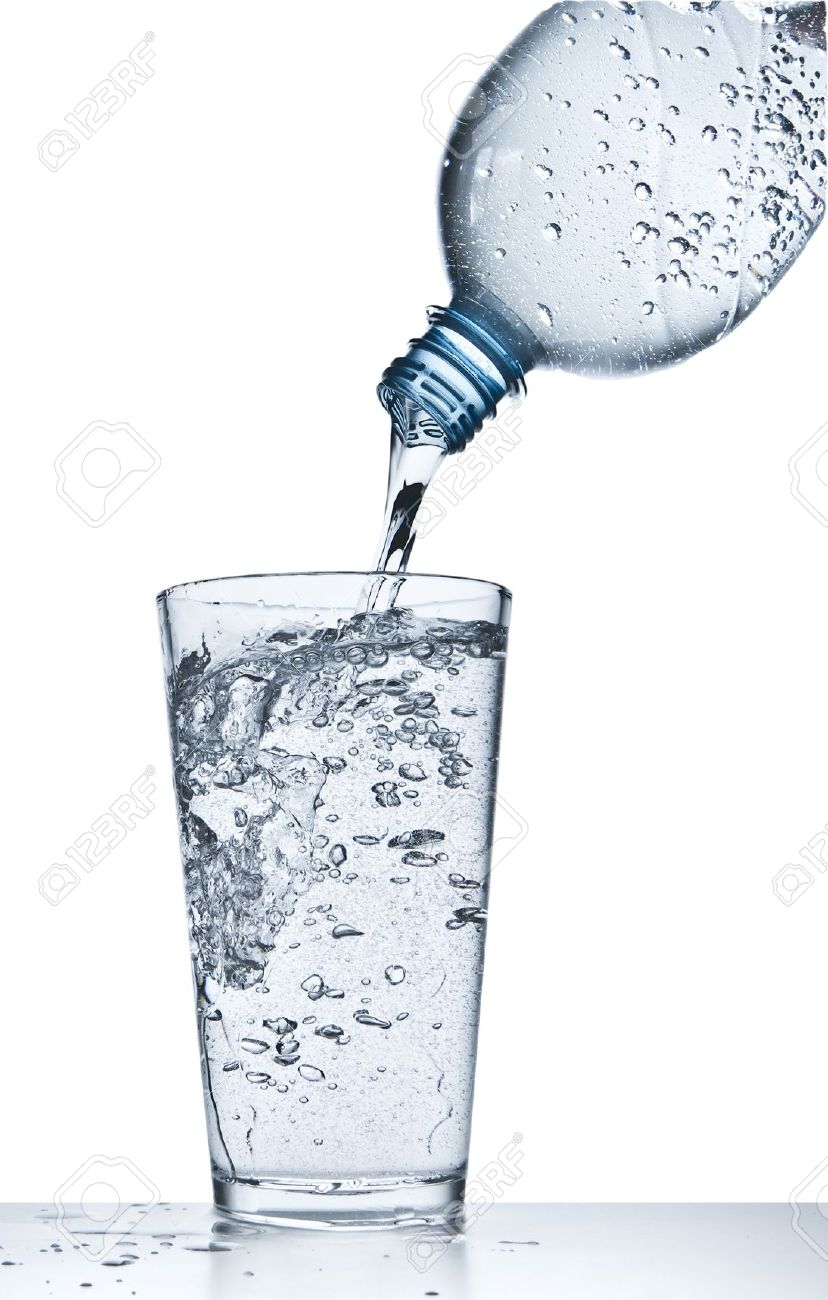glass of water: (135, 560, 535, 1282), (323, 14, 809, 554)
